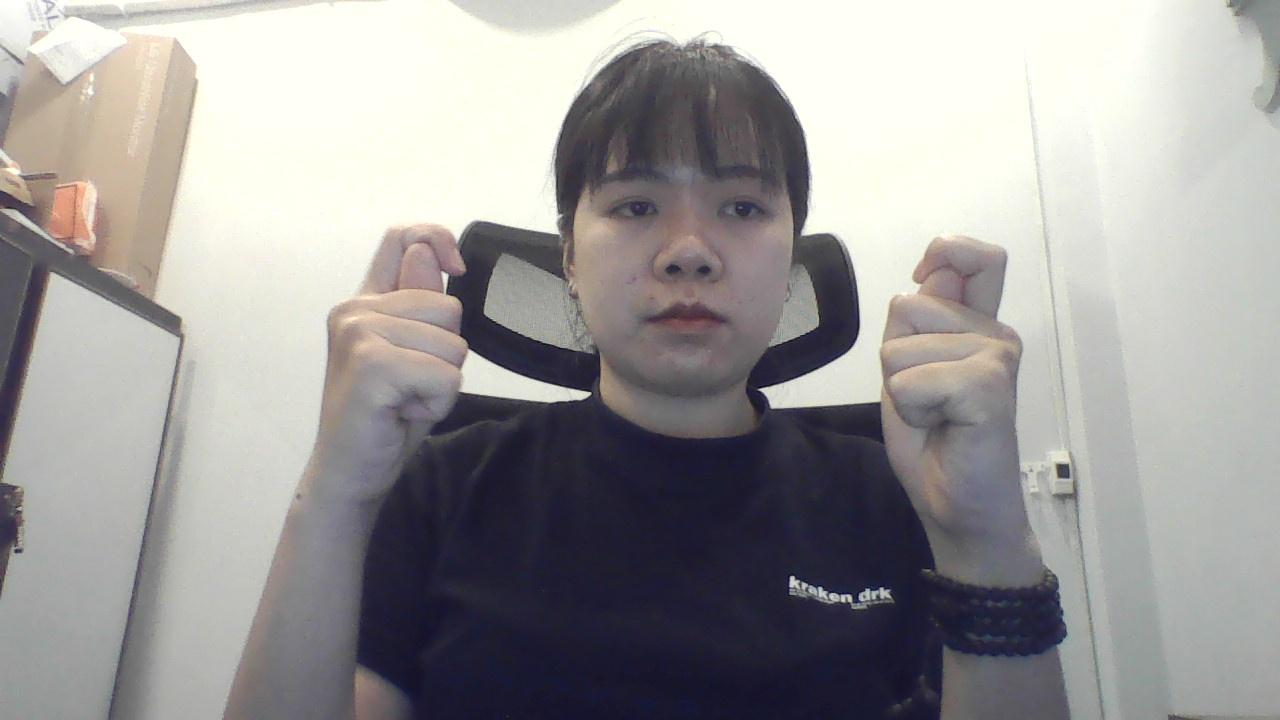X: (874, 204, 1047, 542), (307, 197, 471, 511)
